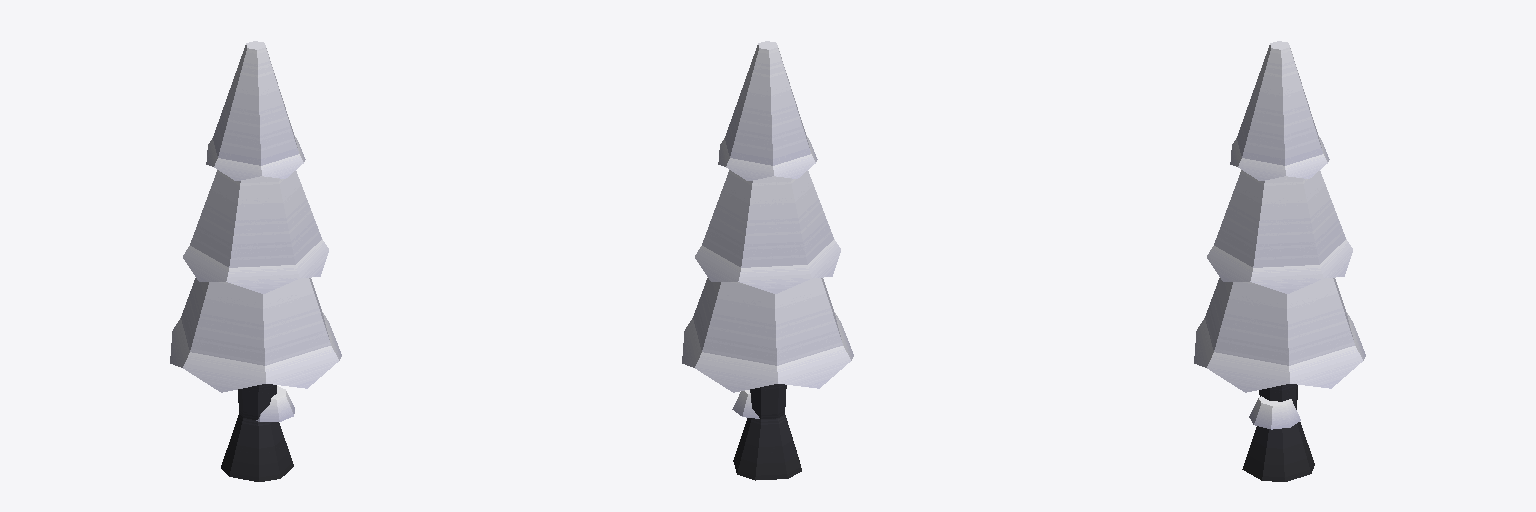
3 views of the same model, side by side, from view 1: azimuth 30°, elevation 25°; view 2: azimuth 150°, elevation 25°; view 3: azimuth 270°, elevation 25° (orthographic).
Parts seen in each view (by area): view 1: tree.017; view 2: tree.017; view 3: tree.017.
Boxes of the visible parts, box(x1,y1,x2,y2) form: tree.017: box(170, 41, 341, 481); tree.017: box(682, 41, 853, 480); tree.017: box(1194, 41, 1365, 481).
Size of the model in its own units: 0.9975 by 2.56 by 0.9495.
Materials: 1 (1 with a texture image).